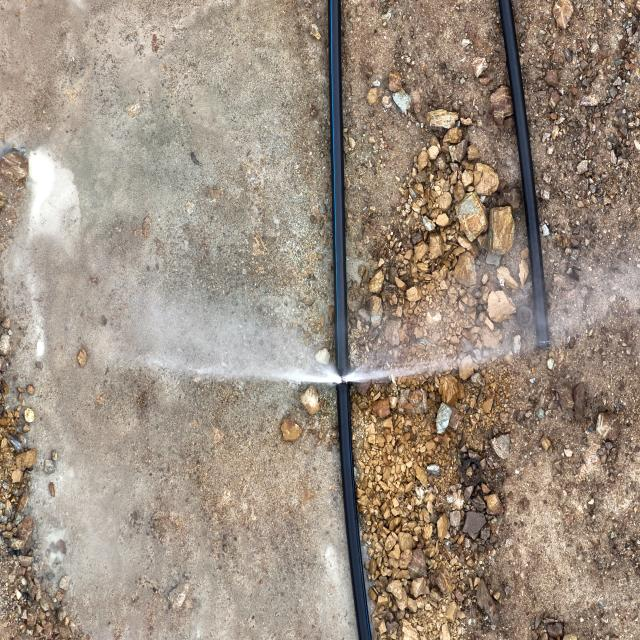leak: (121, 314, 580, 388)
